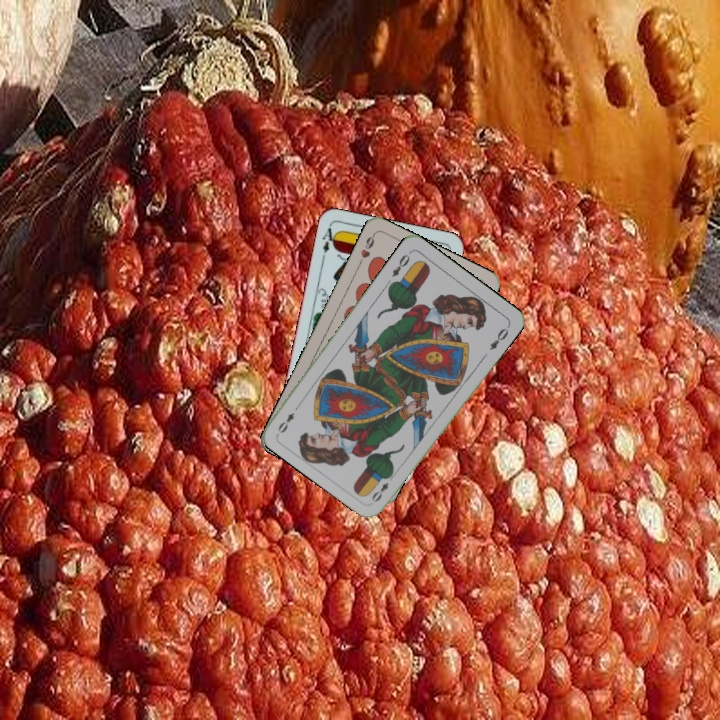EA: (318, 222, 339, 262)
EO: (367, 470, 397, 505), (388, 250, 413, 279)
H9: (354, 230, 377, 268)
